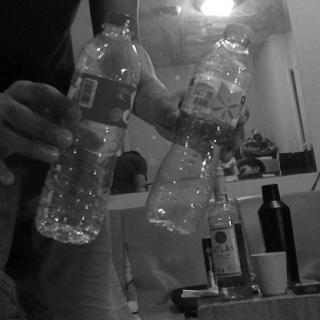plastic_bottles: (37, 13, 145, 248), (142, 27, 257, 232)
